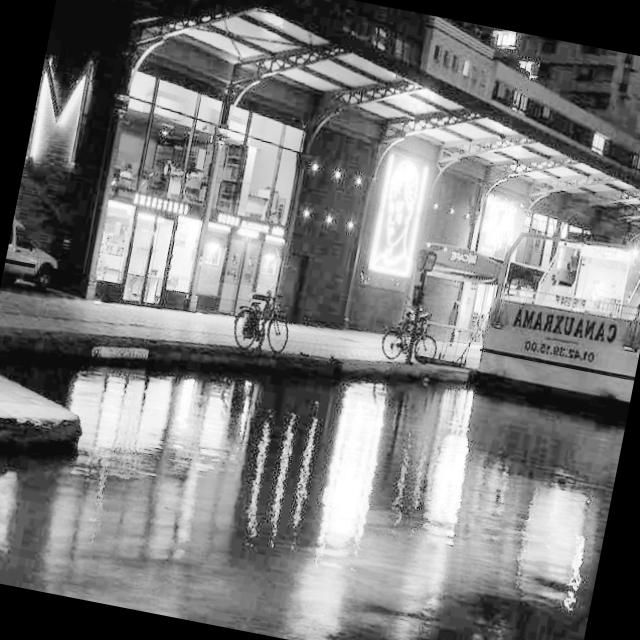Bicycle: (339, 267, 462, 380), (192, 276, 317, 374)
